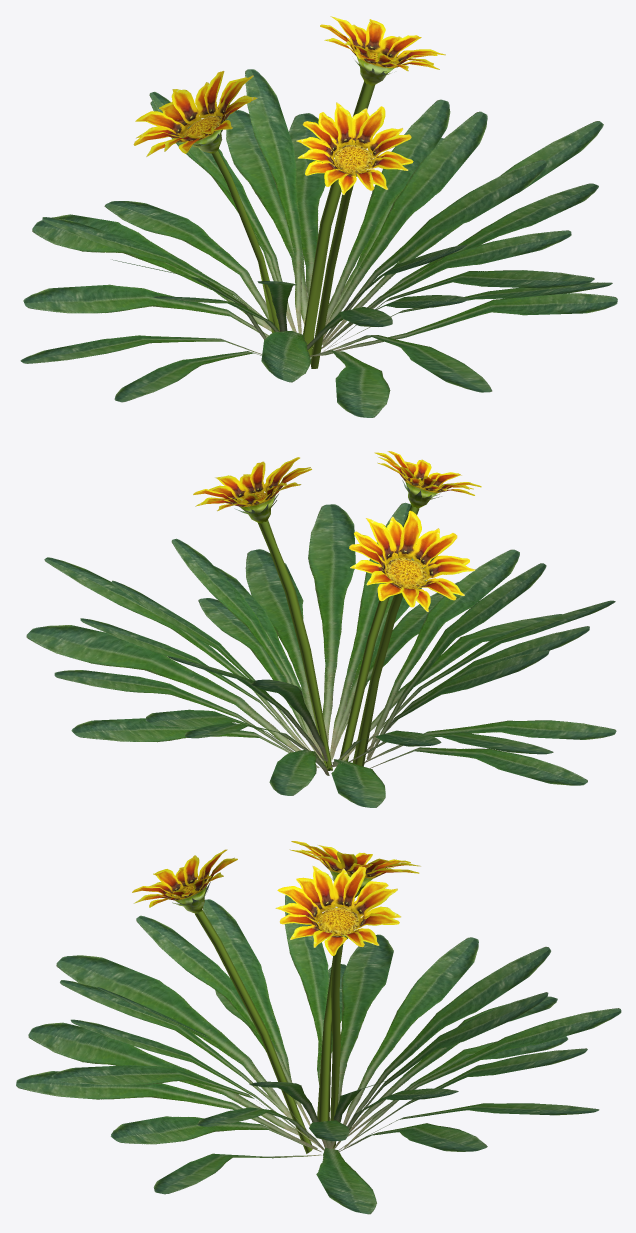
Rendered from Gazania2C.fbx.
3 renders of one model, top to bottom at view 1: azimuth 30°, elevation 25°; view 2: azimuth 150°, elevation 25°; view 3: azimuth 270°, elevation 25°, orthographic. The views are drawn at different scales.
Visible parts, largest first — view 1: Gazania2C_LOD0; view 2: Gazania2C_LOD0; view 3: Gazania2C_LOD0.
Part boxes in pixels (x1,y1,x2,y2): Gazania2C_LOD0: (20, 16, 617, 417); Gazania2C_LOD0: (26, 451, 616, 807); Gazania2C_LOD0: (16, 841, 621, 1214).
Size of what is drawn, in the model's own units: 97.31 by 50.56 by 90.49.
